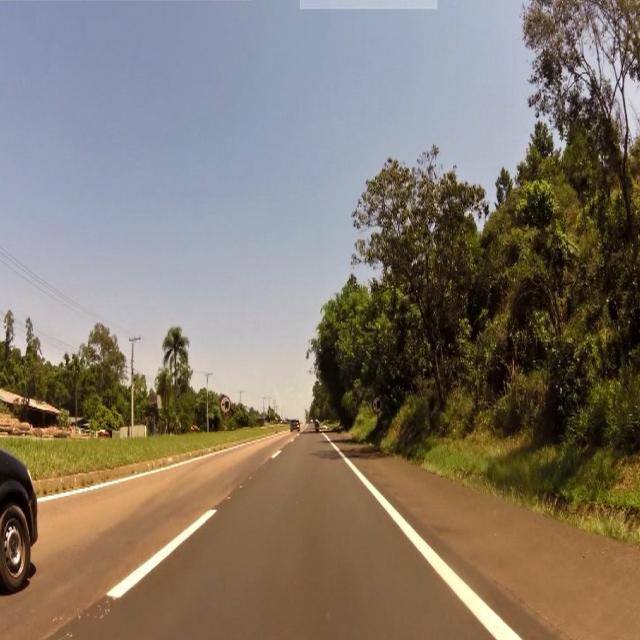R-27: (219, 397, 231, 415)
